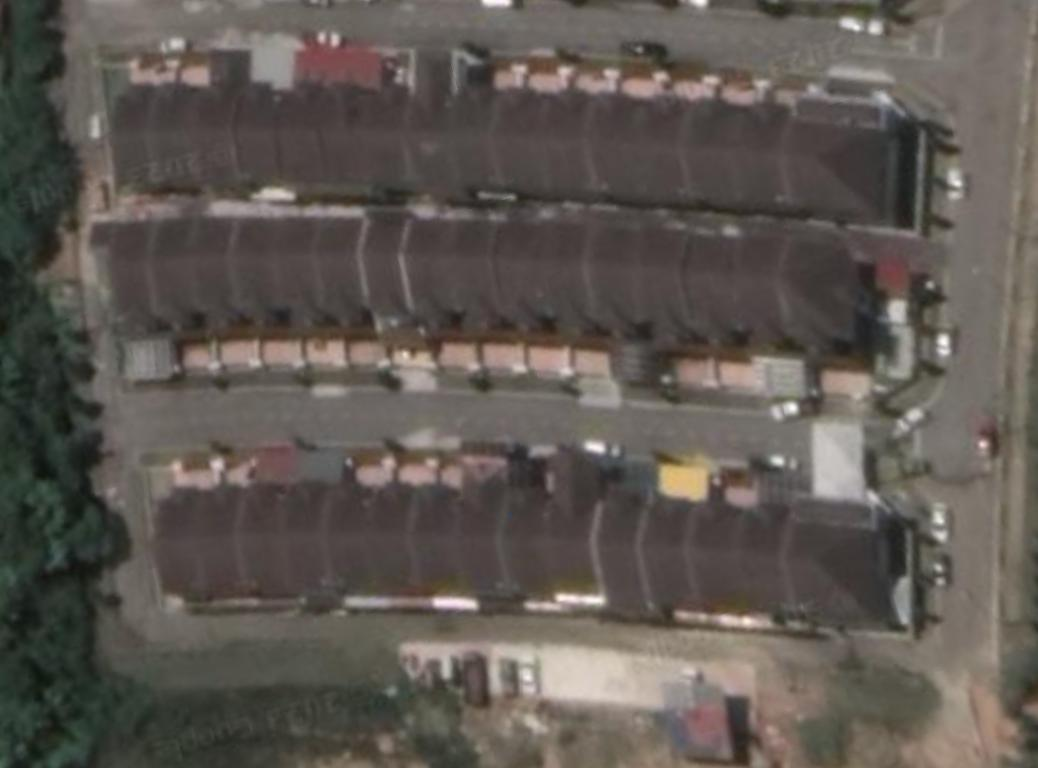building: (766, 57, 927, 233), (795, 415, 917, 633), (773, 233, 887, 365), (722, 60, 800, 224), (585, 45, 661, 210), (678, 55, 755, 217), (398, 40, 471, 209), (541, 45, 612, 207), (454, 41, 521, 208), (639, 52, 705, 215), (81, 211, 171, 327), (501, 46, 564, 211), (697, 457, 761, 617), (143, 480, 215, 614), (649, 459, 711, 612), (557, 435, 611, 607), (103, 70, 173, 201), (746, 458, 801, 619), (361, 41, 415, 202), (284, 19, 333, 191), (204, 41, 253, 204), (323, 21, 369, 193), (603, 475, 659, 612), (419, 470, 473, 600), (365, 209, 422, 329), (290, 472, 343, 601), (508, 478, 561, 604), (375, 471, 427, 599), (333, 467, 383, 600), (245, 475, 297, 601), (465, 471, 515, 602), (733, 231, 787, 351), (409, 212, 466, 325), (159, 73, 209, 201), (645, 223, 697, 344), (243, 71, 292, 199), (595, 219, 648, 335), (545, 215, 598, 329), (325, 208, 378, 321), (207, 476, 252, 607), (283, 209, 336, 320), (457, 213, 511, 321), (238, 209, 291, 319), (692, 229, 742, 345), (199, 207, 249, 320), (503, 215, 553, 324), (161, 209, 205, 321)
